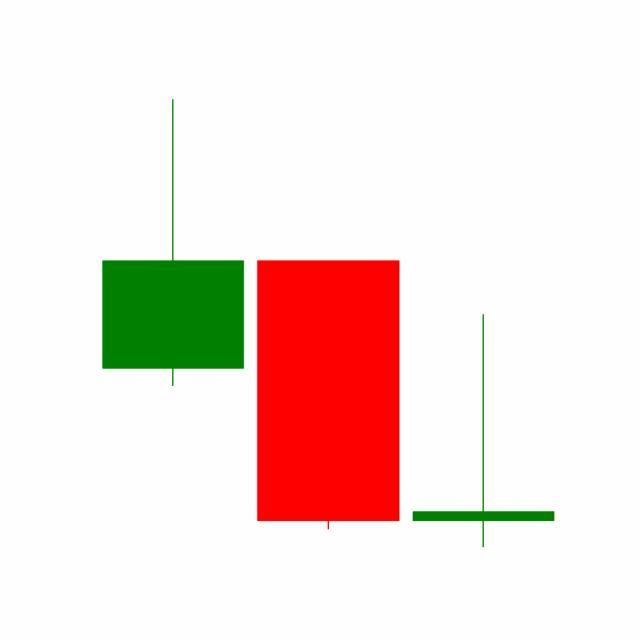Marubozu: (250, 259, 407, 534)
